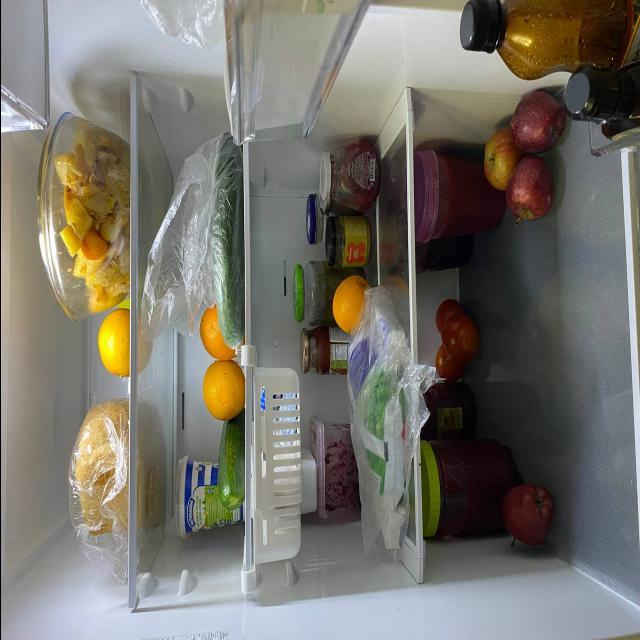Apple: (498, 476, 549, 552), (502, 155, 555, 225), (513, 81, 562, 155), (479, 126, 519, 188)
Cucumber: (218, 133, 245, 351), (208, 407, 247, 525)
Orange: (95, 310, 144, 378), (203, 356, 240, 422), (332, 278, 371, 338), (197, 307, 235, 361)
Tomato: (443, 315, 479, 361), (430, 296, 458, 338), (433, 346, 463, 380)
